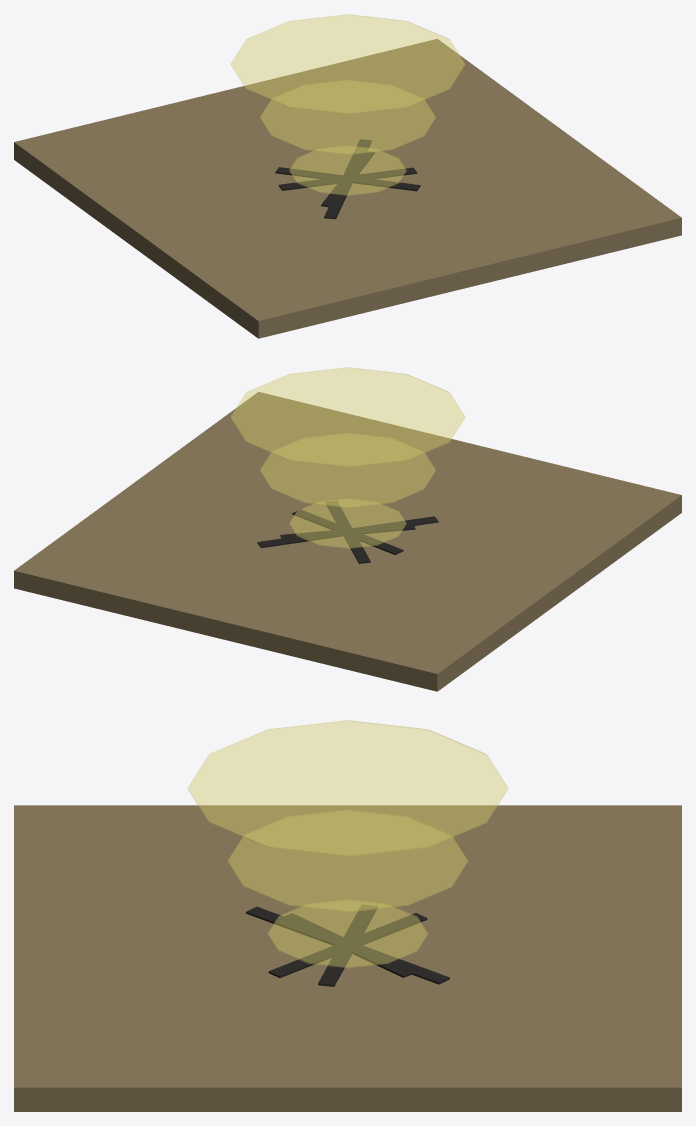
Rendered from Deposit_Gas_Normal.fbx.
3 renders of one model, top to bottom at view 1: azimuth 30°, elevation 25°; view 2: azimuth 150°, elevation 25°; view 3: azimuth 270°, elevation 25°, orthographic. The views are drawn at different scales.
Parts seen in each view (by area): view 1: Deposit_Gas_Normal_Body; view 2: Deposit_Gas_Normal_Body; view 3: Deposit_Gas_Normal_Body.
Boxes of the visible parts, x1,y1,x2,y2 form: Deposit_Gas_Normal_Body: (14, 14, 681, 338); Deposit_Gas_Normal_Body: (14, 367, 681, 691); Deposit_Gas_Normal_Body: (14, 720, 681, 1111).
Size of the model in its own units: 1 by 0.302 by 1.
